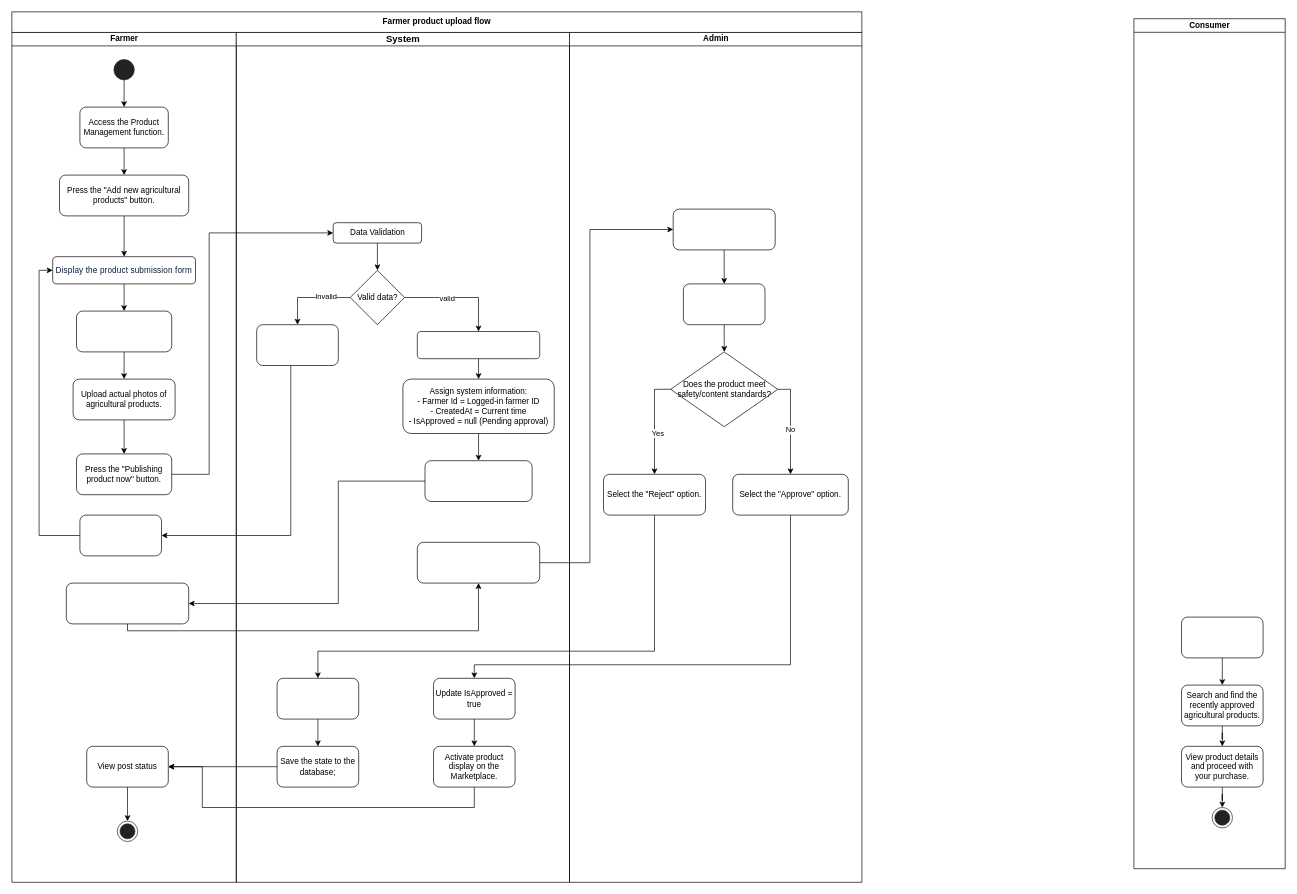
The diagram is 1297 pixels wide and 894 high, and some of its shapes have lost their labels. The shapes that lost their labels are listed below. From the top down, each one's centre as x and y in pixels, then its label:
point 724,229: Access the list of "Products awaiting approval"
point 724,304: Review agricultural product details
point 124,331: Enter product information
point 297,345: Assign error messages to ModelState.
point 478,345: Save the physical image file to the server directory
point 478,481: Save the Product object to the database;
point 120,535: Redisplay the form with a red warning.
point 478,562: Add product to the Pending Products queue.
point 127,603: Display notification: "Listing successfully submitted! Awaiting admin approval."
point 1222,637: Access the Marketplace page.
point 317,698: Update IsApproved = false
